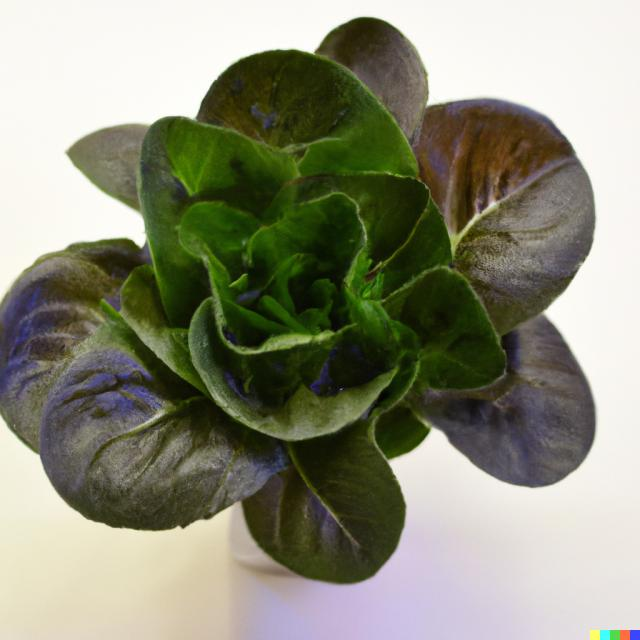-K: (0, 1, 614, 596)
